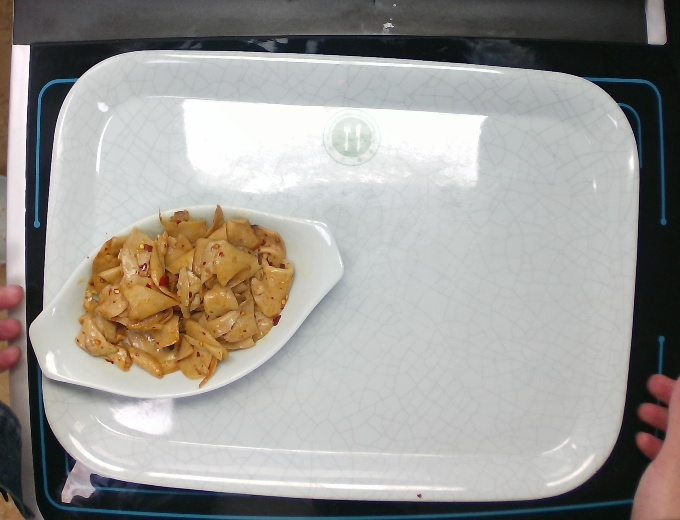JYsf-Yu_Pan: (26, 202, 346, 400)
